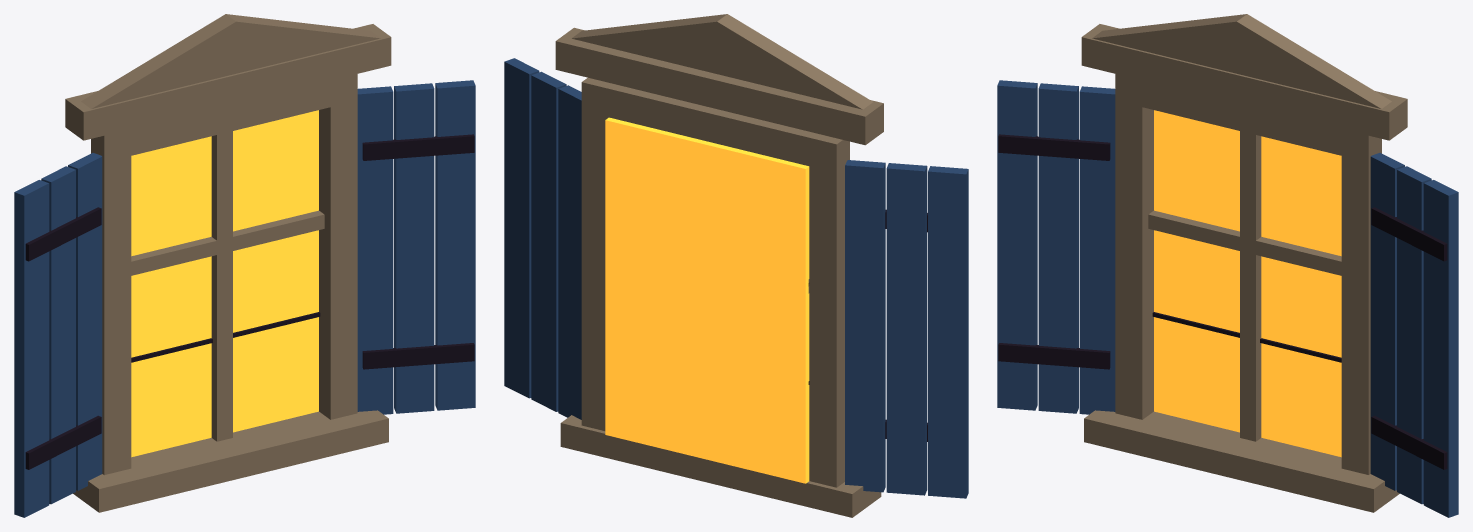
File: kit_clap_window_lit.glb
The picture shows the model from 3 angles, left to right: view 1: azimuth 30°, elevation 25°; view 2: azimuth 150°, elevation 25°; view 3: azimuth 330°, elevation 25°; orthographic projection.
Parts seen in each view (by area): view 1: kit_clap_window_lit; view 2: kit_clap_window_lit; view 3: kit_clap_window_lit.
Boxes of the visible parts, left/top/right/bottom form: kit_clap_window_lit: left=14, top=14, right=475, bottom=517; kit_clap_window_lit: left=504, top=14, right=968, bottom=517; kit_clap_window_lit: left=997, top=14, right=1458, bottom=517.
Size of the model in its own units: 1.01 by 0.95 by 0.1436.
